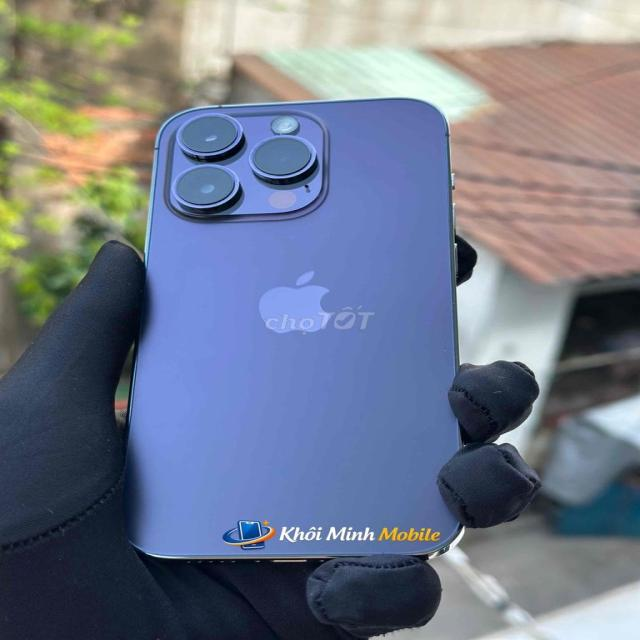gen_14: (124, 96, 476, 585)
